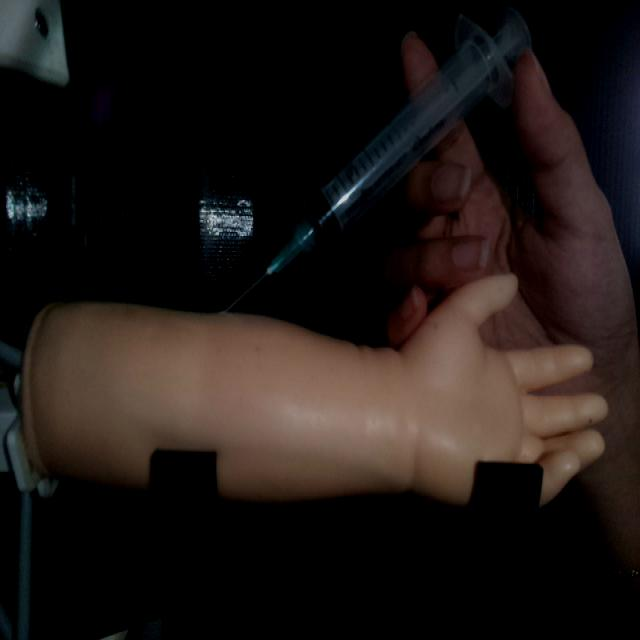Above 30 degrees: (218, 2, 536, 316)
